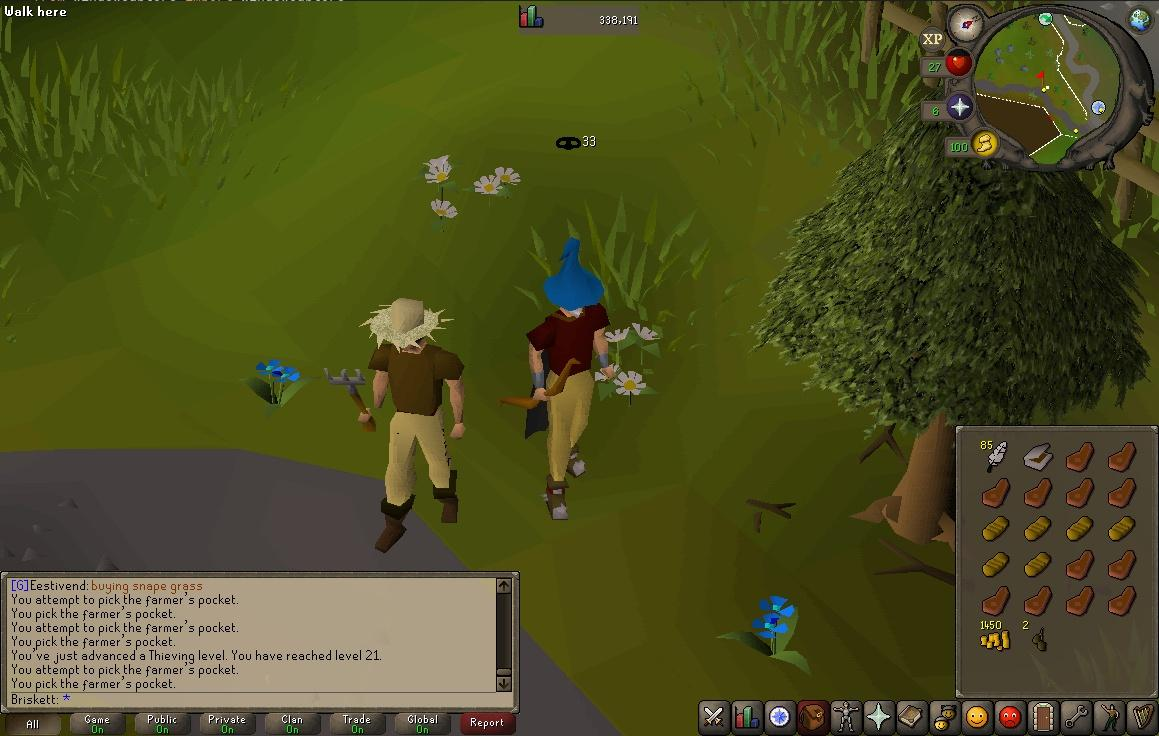Farmer: (358, 297, 467, 554)
